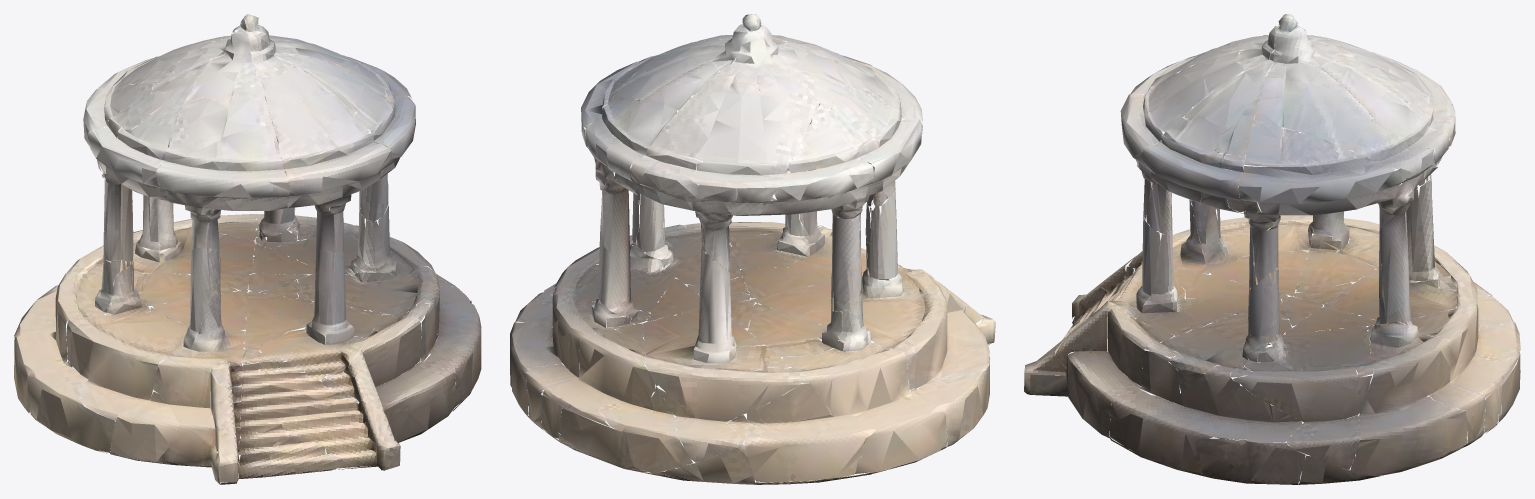
Rendered from bandstand.glb.
3 views of the same model, side by side, from view 1: azimuth 30°, elevation 25°; view 2: azimuth 150°, elevation 25°; view 3: azimuth 270°, elevation 25° (orthographic). The views are drawn at different scales.
Visible parts, largest first — view 1: tripo_node_01a21f08-6162-71c4-930e-1259b994236c; view 2: tripo_node_01a21f08-6162-71c4-930e-1259b994236c; view 3: tripo_node_01a21f08-6162-71c4-930e-1259b994236c.
Part boxes in pixels (bbox=[...]): tripo_node_01a21f08-6162-71c4-930e-1259b994236c: bbox=[14, 14, 481, 484]; tripo_node_01a21f08-6162-71c4-930e-1259b994236c: bbox=[510, 14, 995, 484]; tripo_node_01a21f08-6162-71c4-930e-1259b994236c: bbox=[1024, 14, 1520, 484].
Size of the model in its own units: 11.01 by 9.21 by 11.2.
1 material, 1 textured.
